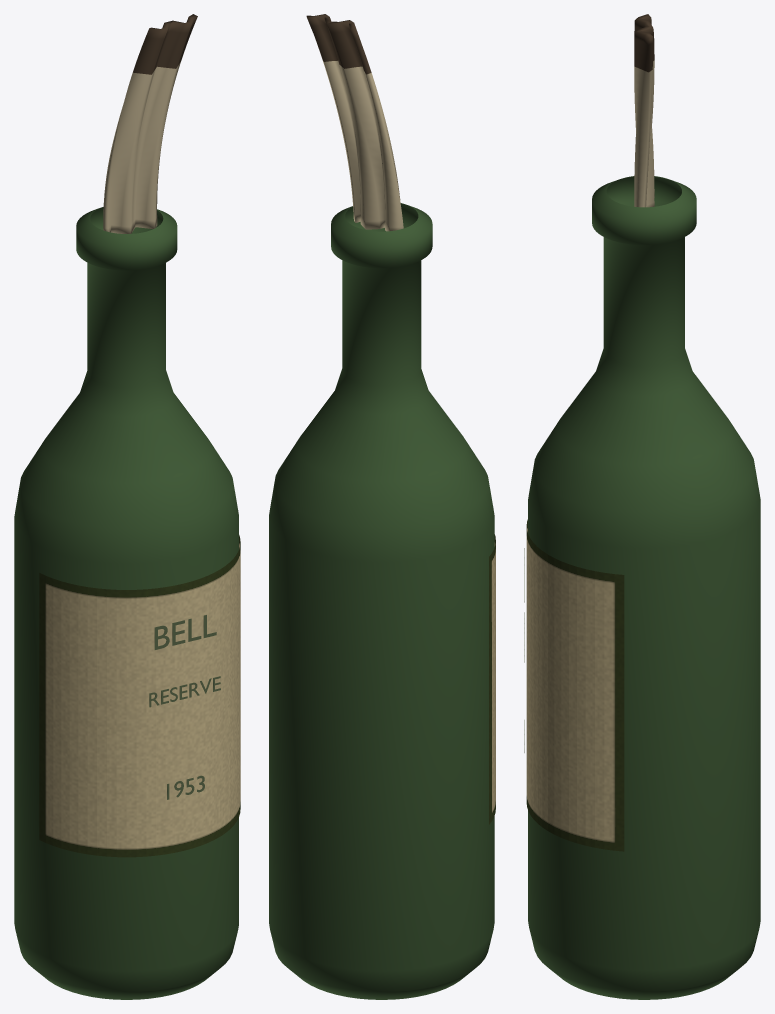
The model's file is incendiary-bottle.glb.
3 views of the same model, side by side, from view 1: azimuth 30°, elevation 25°; view 2: azimuth 150°, elevation 25°; view 3: azimuth 270°, elevation 25° (orthographic). The views are drawn at different scales.
Parts seen in each view (by area): view 1: bottle glass body, curved bottle label, bottle folded cloth strip, bottle label BELL; view 2: bottle glass body, bottle folded cloth strip, curved bottle label; view 3: bottle glass body, curved bottle label, bottle folded cloth strip.
Part boxes in pixels (x1,y1,x2,y2): bottle glass body: (14,207,238,999); curved bottle label: (39,535,240,857); bottle folded cloth strip: (103,14,197,233); bottle label BELL: (149,615,220,799); bottle glass body: (269,203,494,999); bottle folded cloth strip: (306,14,403,231); curved bottle label: (489,534,495,824); bottle glass body: (528,176,760,999); curved bottle label: (526,519,624,851); bottle folded cloth strip: (634,14,654,207).
Size of the model in its own units: 0.08 by 0.3645 by 0.0813.
Materials: 5 (1 with a texture image).
